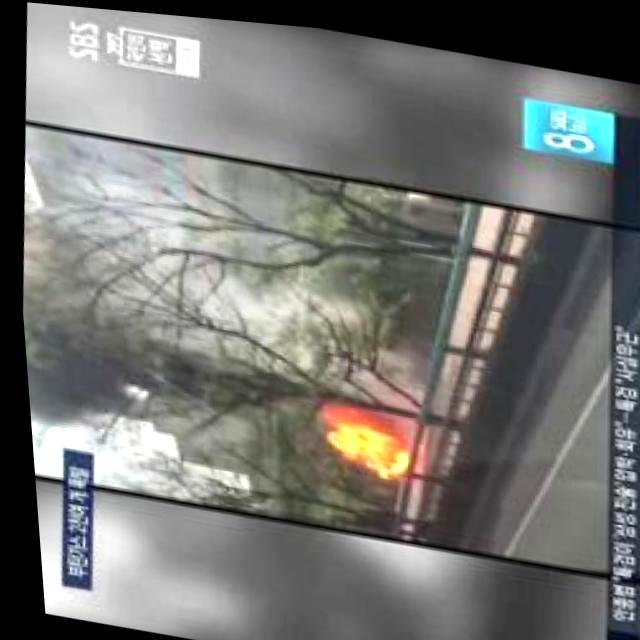fire: (306, 389, 404, 483)
